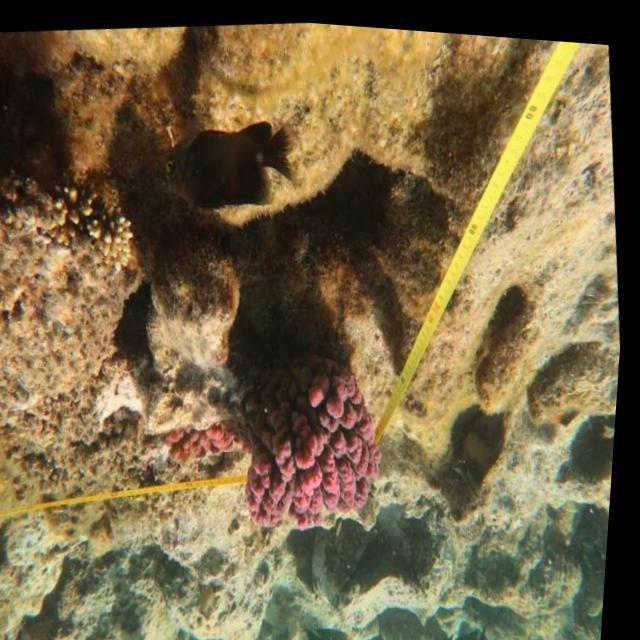Healthy Coral: (221, 336, 398, 544)
